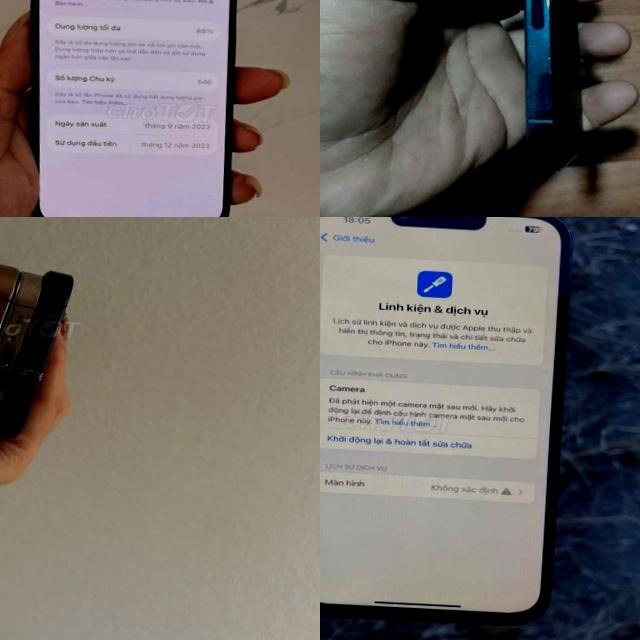gen_12_13: (320, 217, 575, 633), (474, 0, 613, 174)
gen_15: (0, 0, 256, 217)
